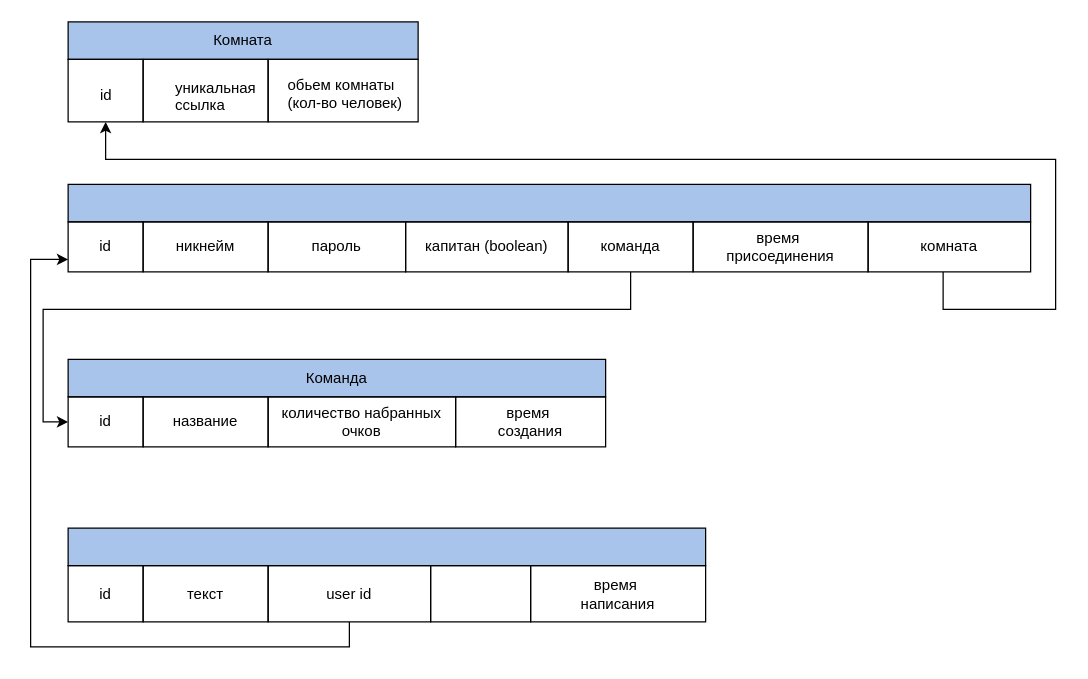
The diagram is 1088 pixels wide and 679 high, and some of its shapes have lost their labels. The shapes that lost their labels are listed below. From the top down, each one's centre as x and y in pixels, then its label:
At point 549,202: "Пользователь".
At point 386,546: "Сообщения".
At point 480,593: "связь".
